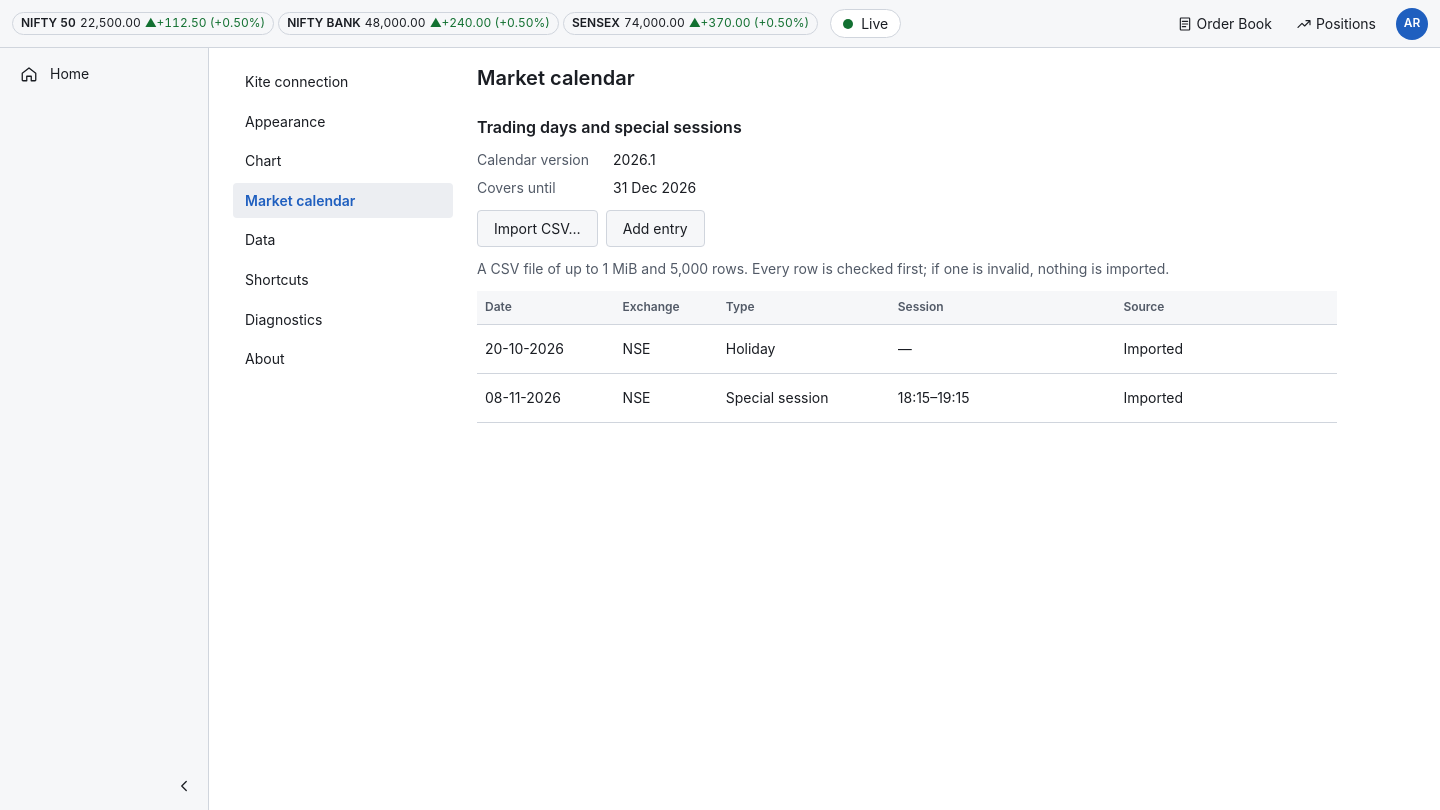
FR-DATA-001 Settings → Market calendar › adds a holiday through the entry dialog
The image size is (1440, 810).
Click the button "Add entry" at (655, 228), box [606,210,705,247]
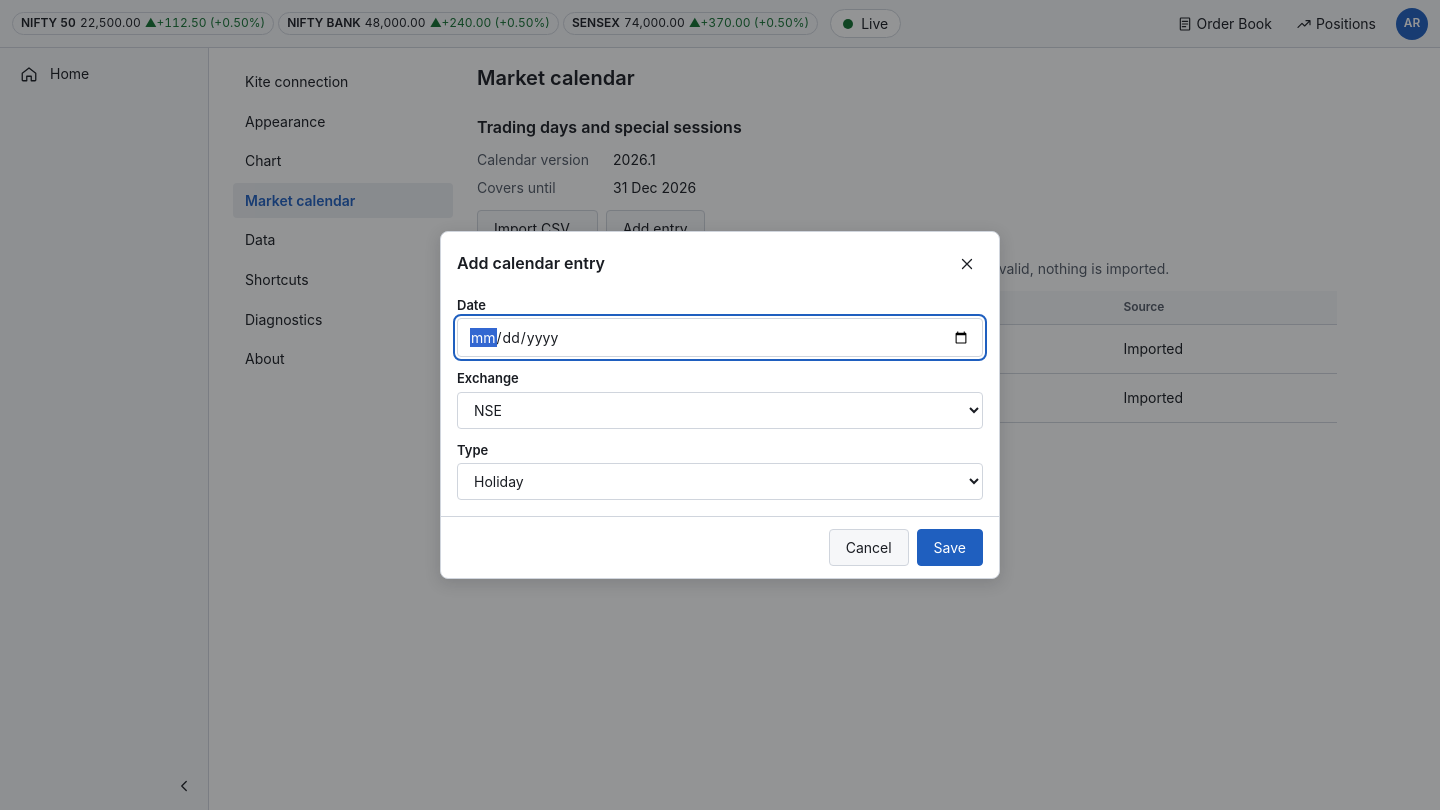
Type "2026-12-25" into the date field labelled "Date" at (720, 338), box [457,318,983,357]
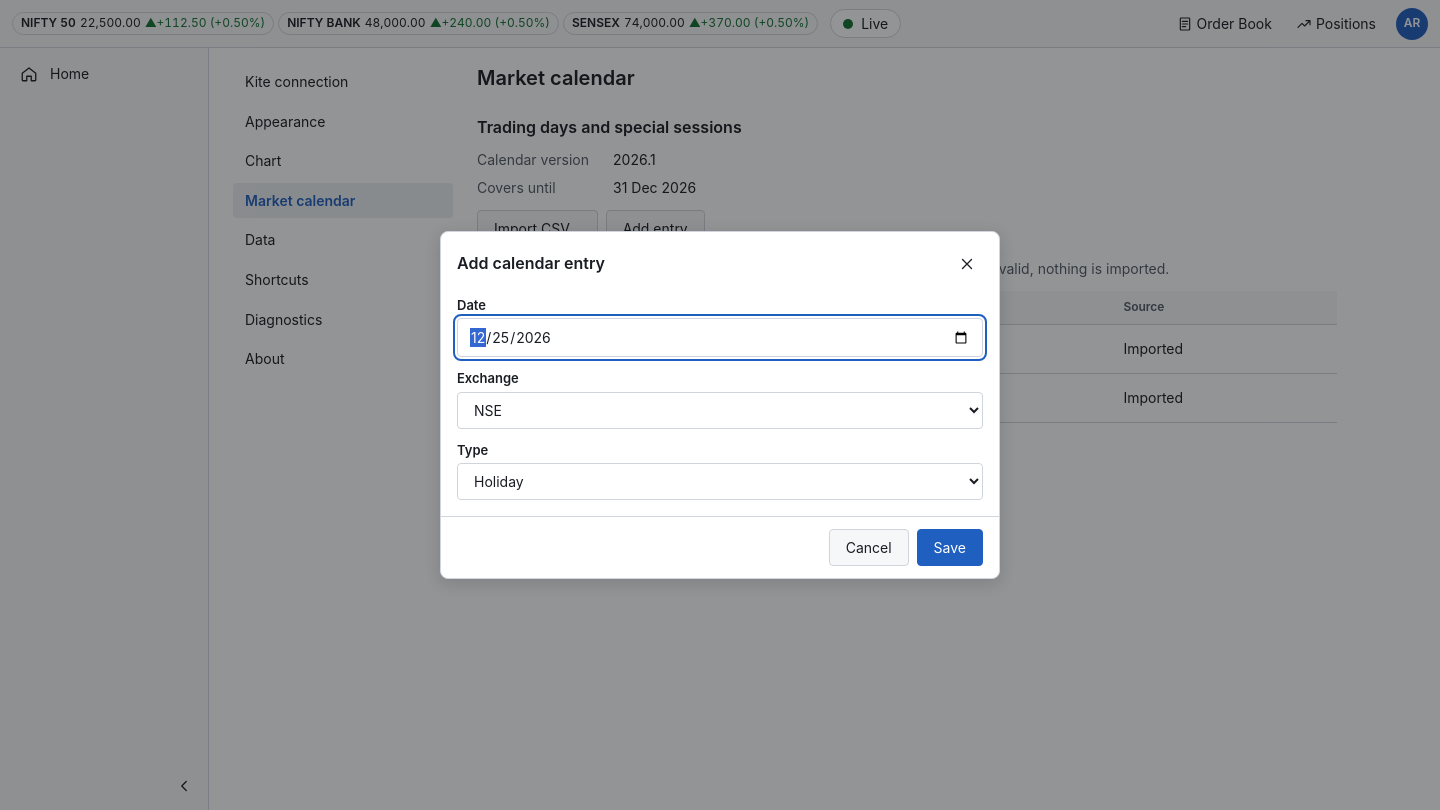
Click the button "Save" at (950, 548), box [917,529,983,566]
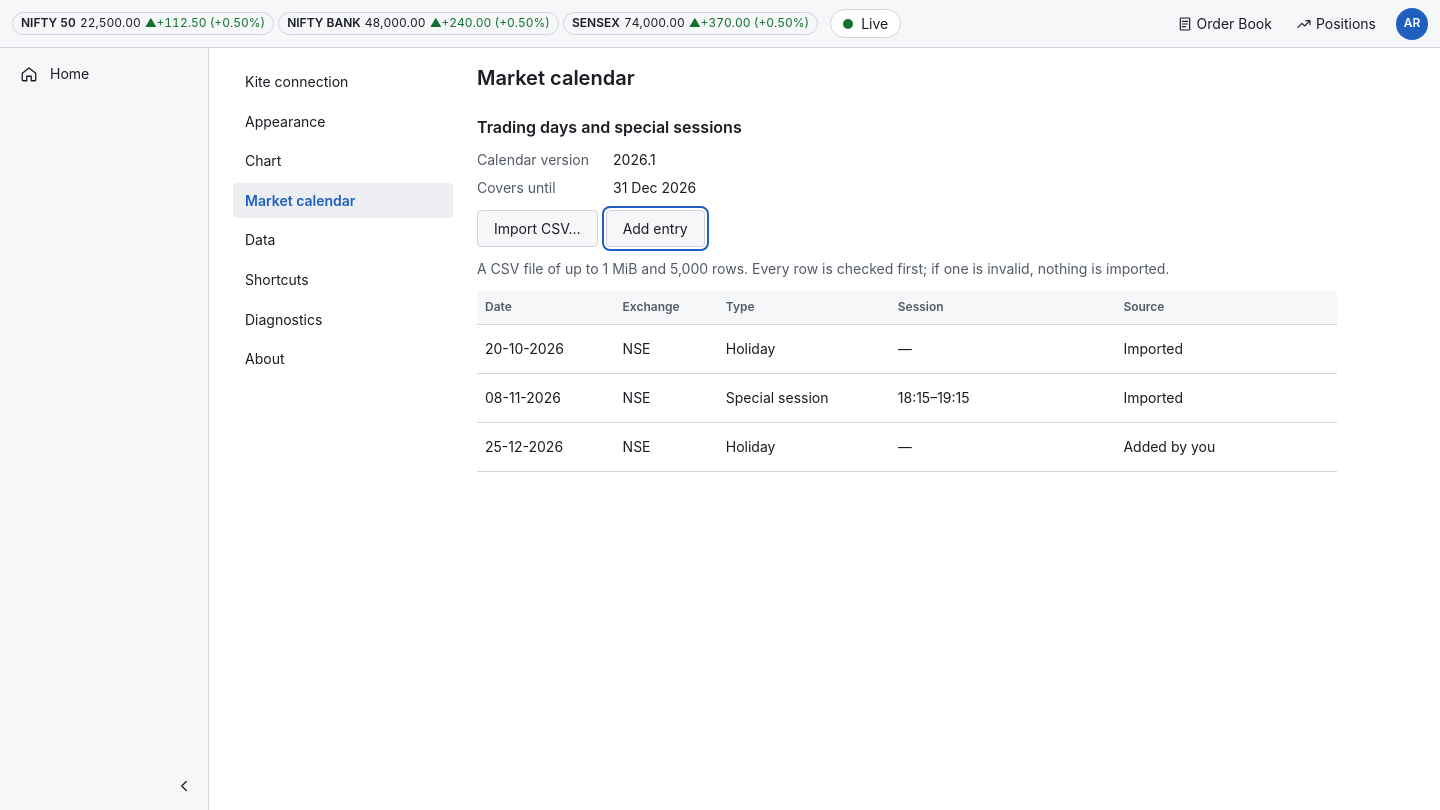
Now the row "25-12-2026 NSE Holiday — Added by you" is shown, box [477,422,1337,471]
